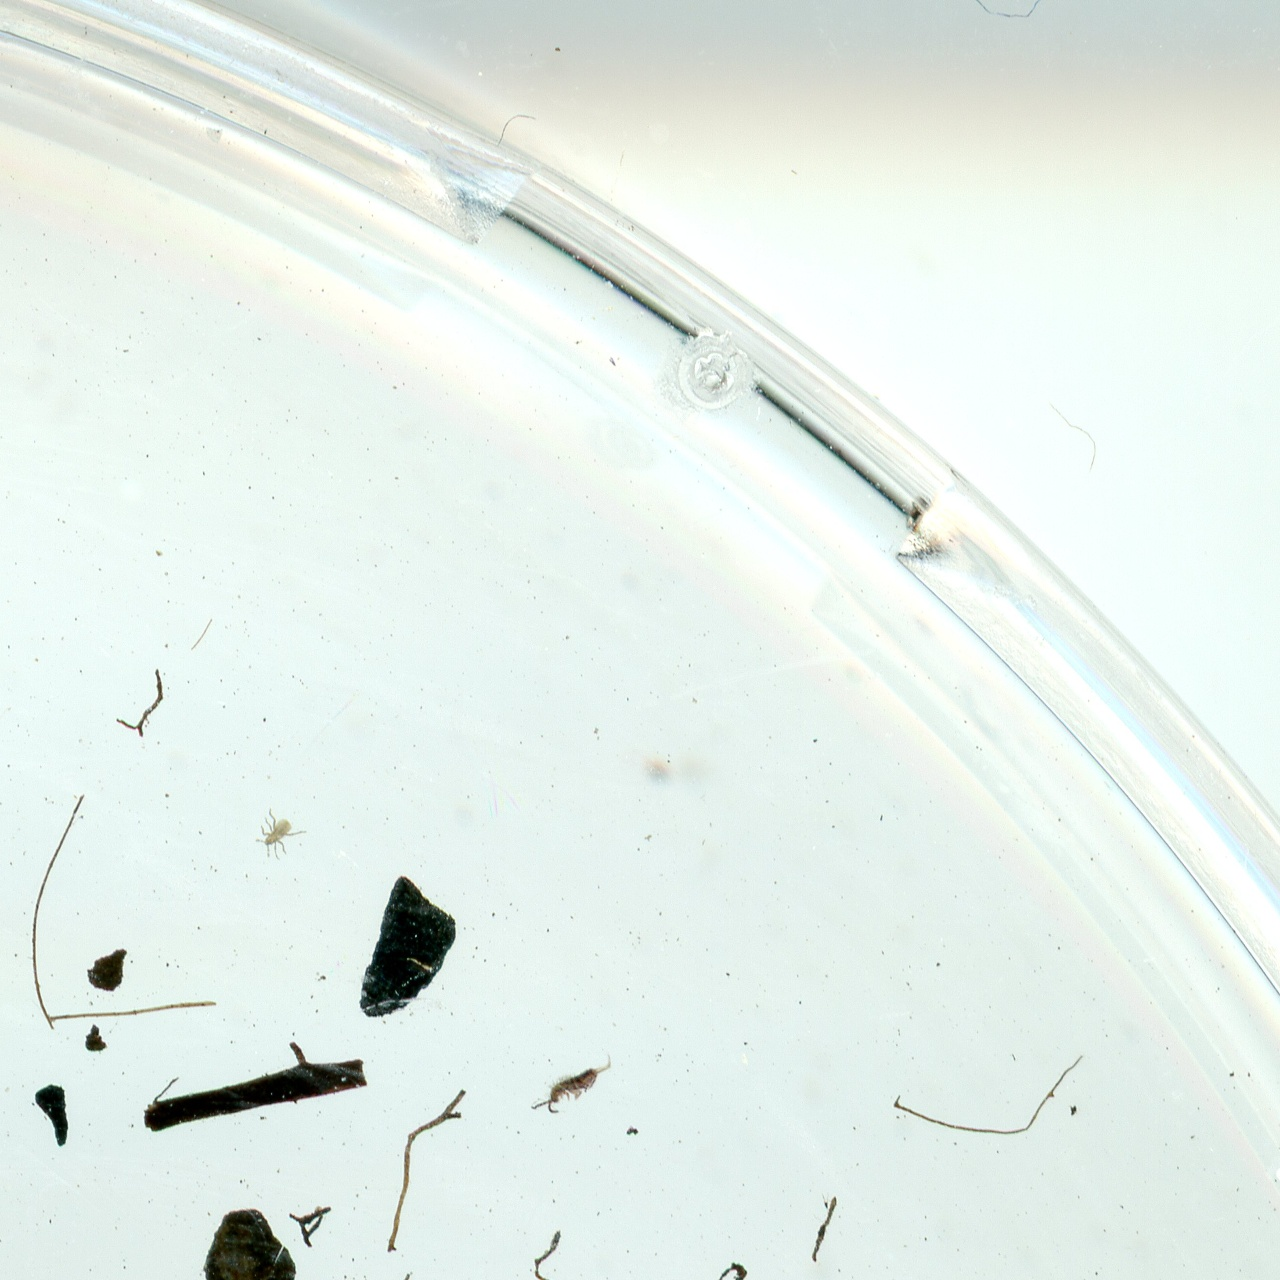arthropod: (516, 1043, 631, 1129), (251, 803, 311, 862)
